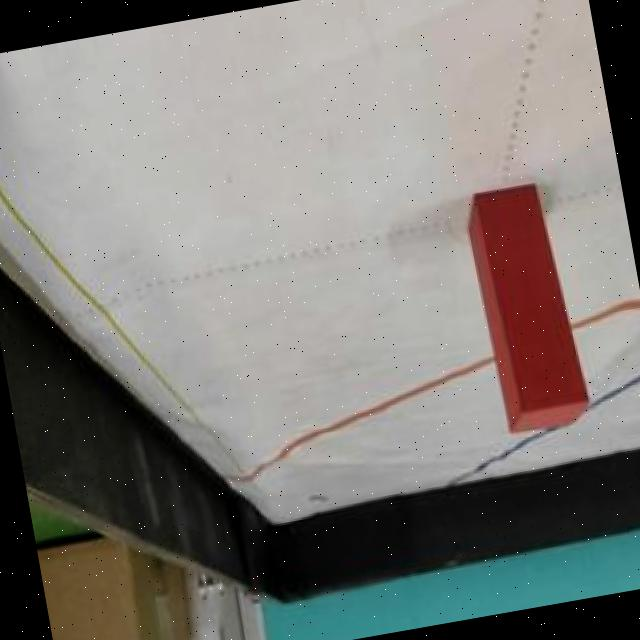redbox: (459, 181, 592, 438)
